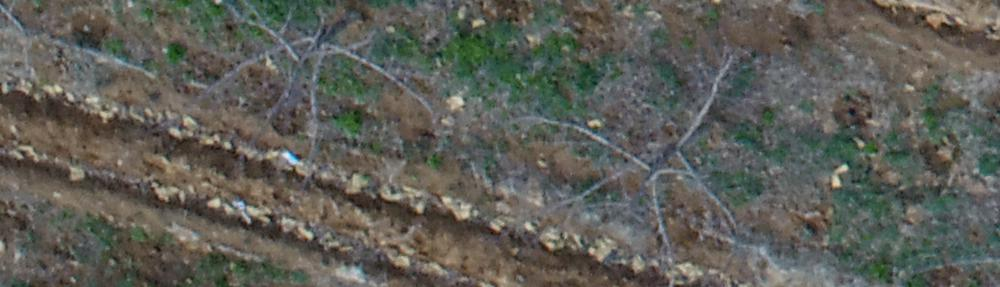apple: (527, 53, 768, 277), (171, 10, 449, 164)
